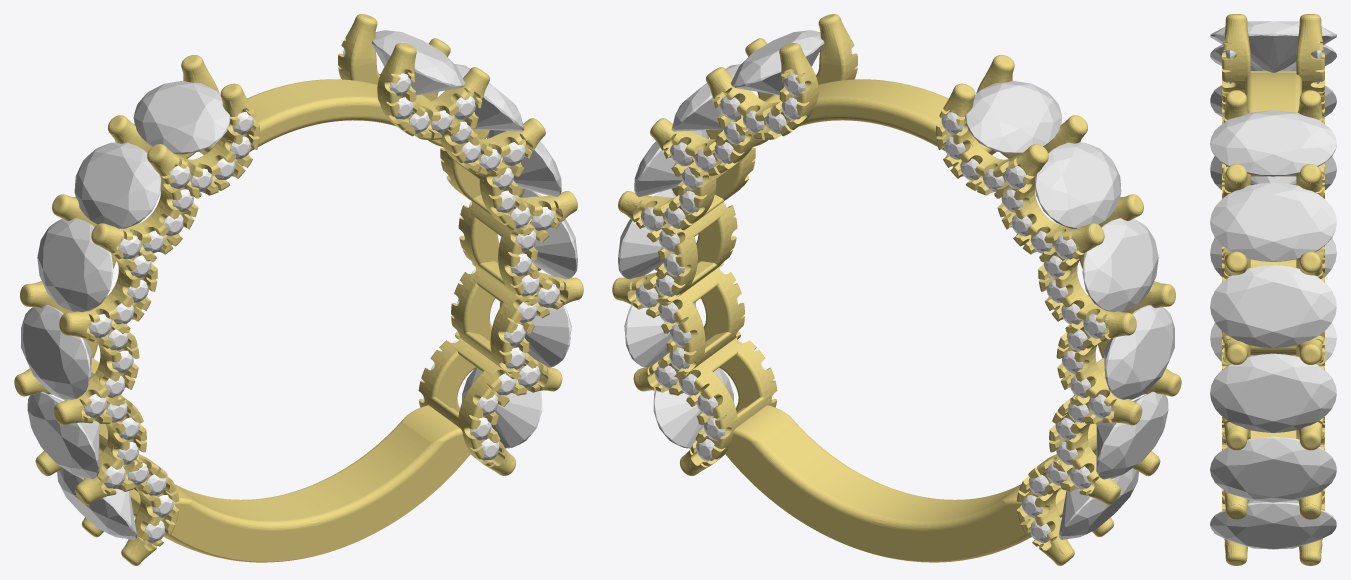
File: LR1046_Shank.glb
3 renders of one model, left to right at view 1: azimuth 30°, elevation 25°; view 2: azimuth 150°, elevation 25°; view 3: azimuth 270°, elevation 25°, orthographic. The views are drawn at different scales.
Parts seen in each view (by area): view 1: world.002, all-diamonds.011, all-diamonds.010, all-diamonds.012, all-diamonds.007, all-diamonds.008, all-diamonds.001, all-diamonds.009, all-diamonds.004, all-diamonds.005, all-diamonds.006, all-diamonds.003 (+1 smaller); view 2: world.002, all-diamonds.011, all-diamonds.010, all-diamonds.012, all-diamonds.007, all-diamonds.008, all-diamonds.001, all-diamonds.009, all-diamonds.004, all-diamonds.005, all-diamonds.006, all-diamonds.003 (+1 smaller); view 3: world.002, all-diamonds.003, all-diamonds.002, all-diamonds.006, all-diamonds.001, all-diamonds.005, all-diamonds.004, all-diamonds.012, all-diamonds.007, all-diamonds.009, all-diamonds.008, all-diamonds.010 (+1 smaller).
Boxes of the visible parts, bbox=[...] form: world.002: bbox=[14, 14, 583, 565]; all-diamonds.011: bbox=[74, 142, 160, 228]; all-diamonds.010: bbox=[37, 218, 113, 312]; all-diamonds.012: bbox=[133, 81, 230, 154]; all-diamonds.007: bbox=[21, 305, 91, 399]; all-diamonds.008: bbox=[27, 391, 99, 479]; all-diamonds.001: bbox=[371, 30, 465, 95]; all-diamonds.009: bbox=[57, 468, 136, 539]; all-diamonds.004: bbox=[462, 368, 542, 448]; all-diamonds.005: bbox=[499, 302, 571, 367]; all-diamonds.006: bbox=[519, 188, 577, 279]; all-diamonds.003: bbox=[487, 130, 561, 196]; world.002: bbox=[612, 14, 1181, 565]; all-diamonds.011: bbox=[1035, 142, 1121, 228]; all-diamonds.010: bbox=[1082, 218, 1158, 312]; all-diamonds.012: bbox=[965, 81, 1062, 154]; all-diamonds.007: bbox=[1104, 305, 1174, 399]; all-diamonds.008: bbox=[1096, 391, 1168, 479]; all-diamonds.001: bbox=[730, 30, 824, 95]; all-diamonds.009: bbox=[1059, 468, 1138, 539]; all-diamonds.004: bbox=[653, 368, 733, 448]; all-diamonds.005: bbox=[624, 302, 696, 367]; all-diamonds.006: bbox=[618, 188, 676, 279]; all-diamonds.003: bbox=[634, 130, 708, 196]; world.002: bbox=[1222, 14, 1324, 565]; all-diamonds.003: bbox=[1210, 265, 1336, 348]; all-diamonds.002: bbox=[1210, 182, 1336, 261]; all-diamonds.006: bbox=[1210, 353, 1336, 432]; all-diamonds.001: bbox=[1210, 110, 1336, 176]; all-diamonds.005: bbox=[1210, 436, 1336, 502]; all-diamonds.004: bbox=[1210, 500, 1336, 549]; all-diamonds.012: bbox=[1210, 21, 1336, 72]; all-diamonds.007: bbox=[1210, 156, 1336, 189]; all-diamonds.009: bbox=[1210, 323, 1336, 361]; all-diamonds.008: bbox=[1210, 238, 1336, 276]; all-diamonds.010: bbox=[1210, 85, 1336, 117].
Bounding box in the file's own units: 23.86 × 21.71 × 5.32.
